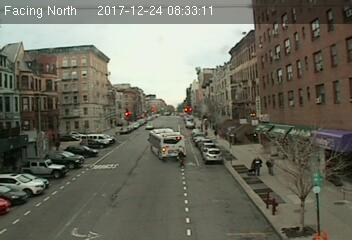bus: (148, 128, 186, 161)
car: (203, 147, 222, 161)
pedestrian: (252, 154, 261, 179), (265, 156, 274, 176)
